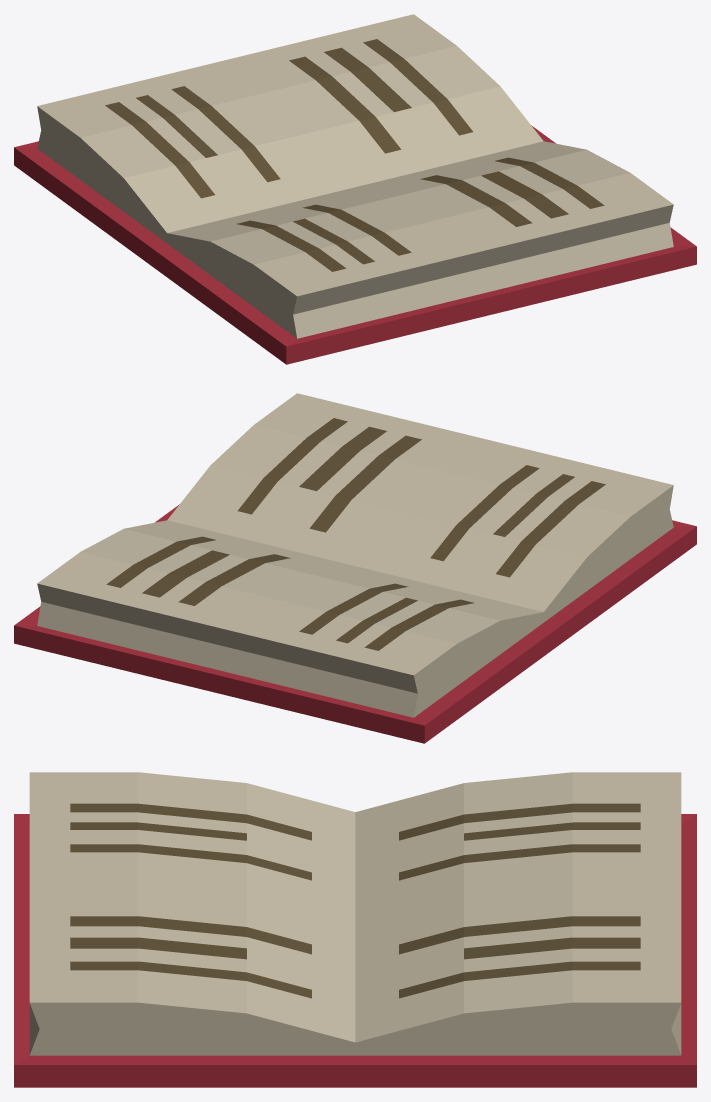
Rendered from Book_Open.glb.
3 views of the same model, one above another, from view 1: azimuth 30°, elevation 25°; view 2: azimuth 150°, elevation 25°; view 3: azimuth 270°, elevation 25° (orthographic). The views are drawn at different scales.
Visible parts, largest first — view 1: Book_Open; view 2: Book_Open; view 3: Book_Open.
Boxes of the visible parts, x1=… form: Book_Open: x1=14, y1=14, x2=696, y2=364; Book_Open: x1=14, y1=393, x2=696, y2=743; Book_Open: x1=14, y1=772, x2=696, y2=1087.
Size of the model in its own units: 1.19 by 0.1658 by 1.37.
